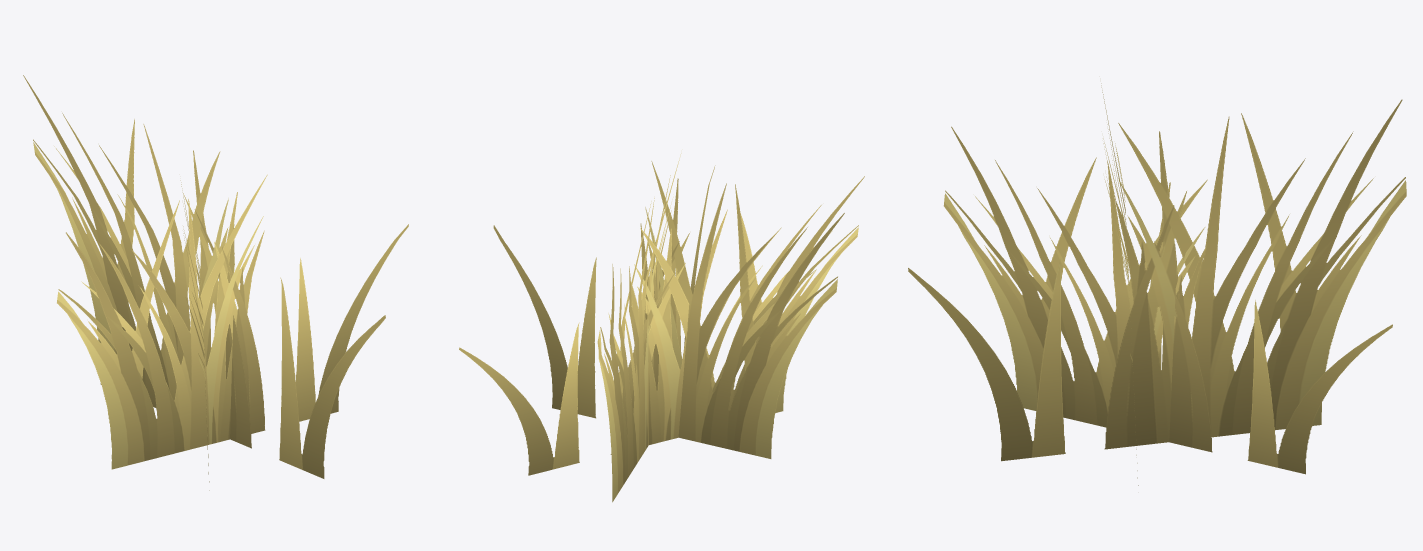
Rendered from desert_grass_1_mid.glb.
The picture shows the model from 3 angles, left to right: view 1: azimuth 30°, elevation 25°; view 2: azimuth 150°, elevation 25°; view 3: azimuth 270°, elevation 25°; orthographic projection. The views are drawn at different scales.
Parts seen in each view (by area): view 1: desert_grass_1_mid; view 2: desert_grass_1_mid; view 3: desert_grass_1_mid.
Part boxes in pixels (bbox=[...]): desert_grass_1_mid: bbox=[23, 75, 408, 490]; desert_grass_1_mid: bbox=[459, 153, 864, 502]; desert_grass_1_mid: bbox=[908, 83, 1406, 485].
Bounding box in the file's own units: 0.5267 × 0.5005 × 0.6174.
Materials: 1 (1 with a texture image).
